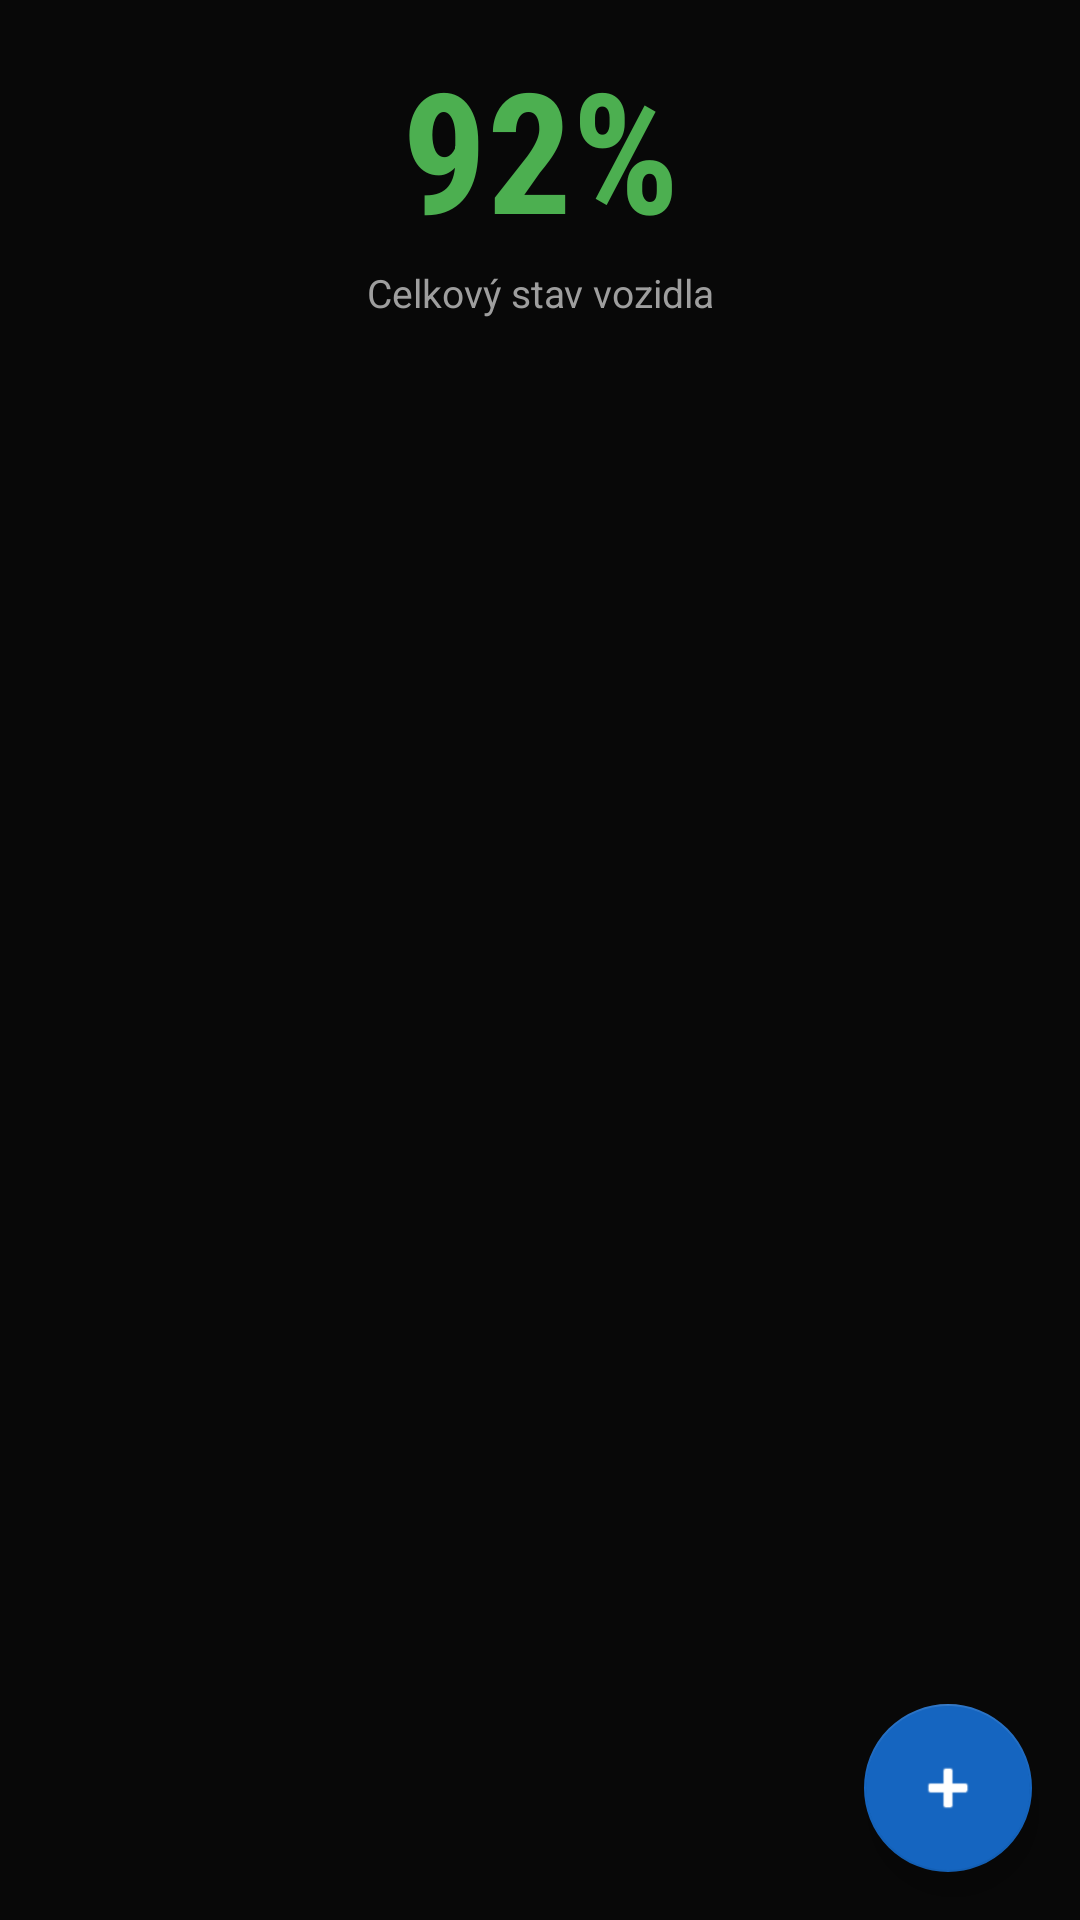

Locate icon controls on the screen. Image size 1080×1920, boxes as (x1, y1, x2, y2).
Přidat servis: (864, 1704, 1032, 1872)
